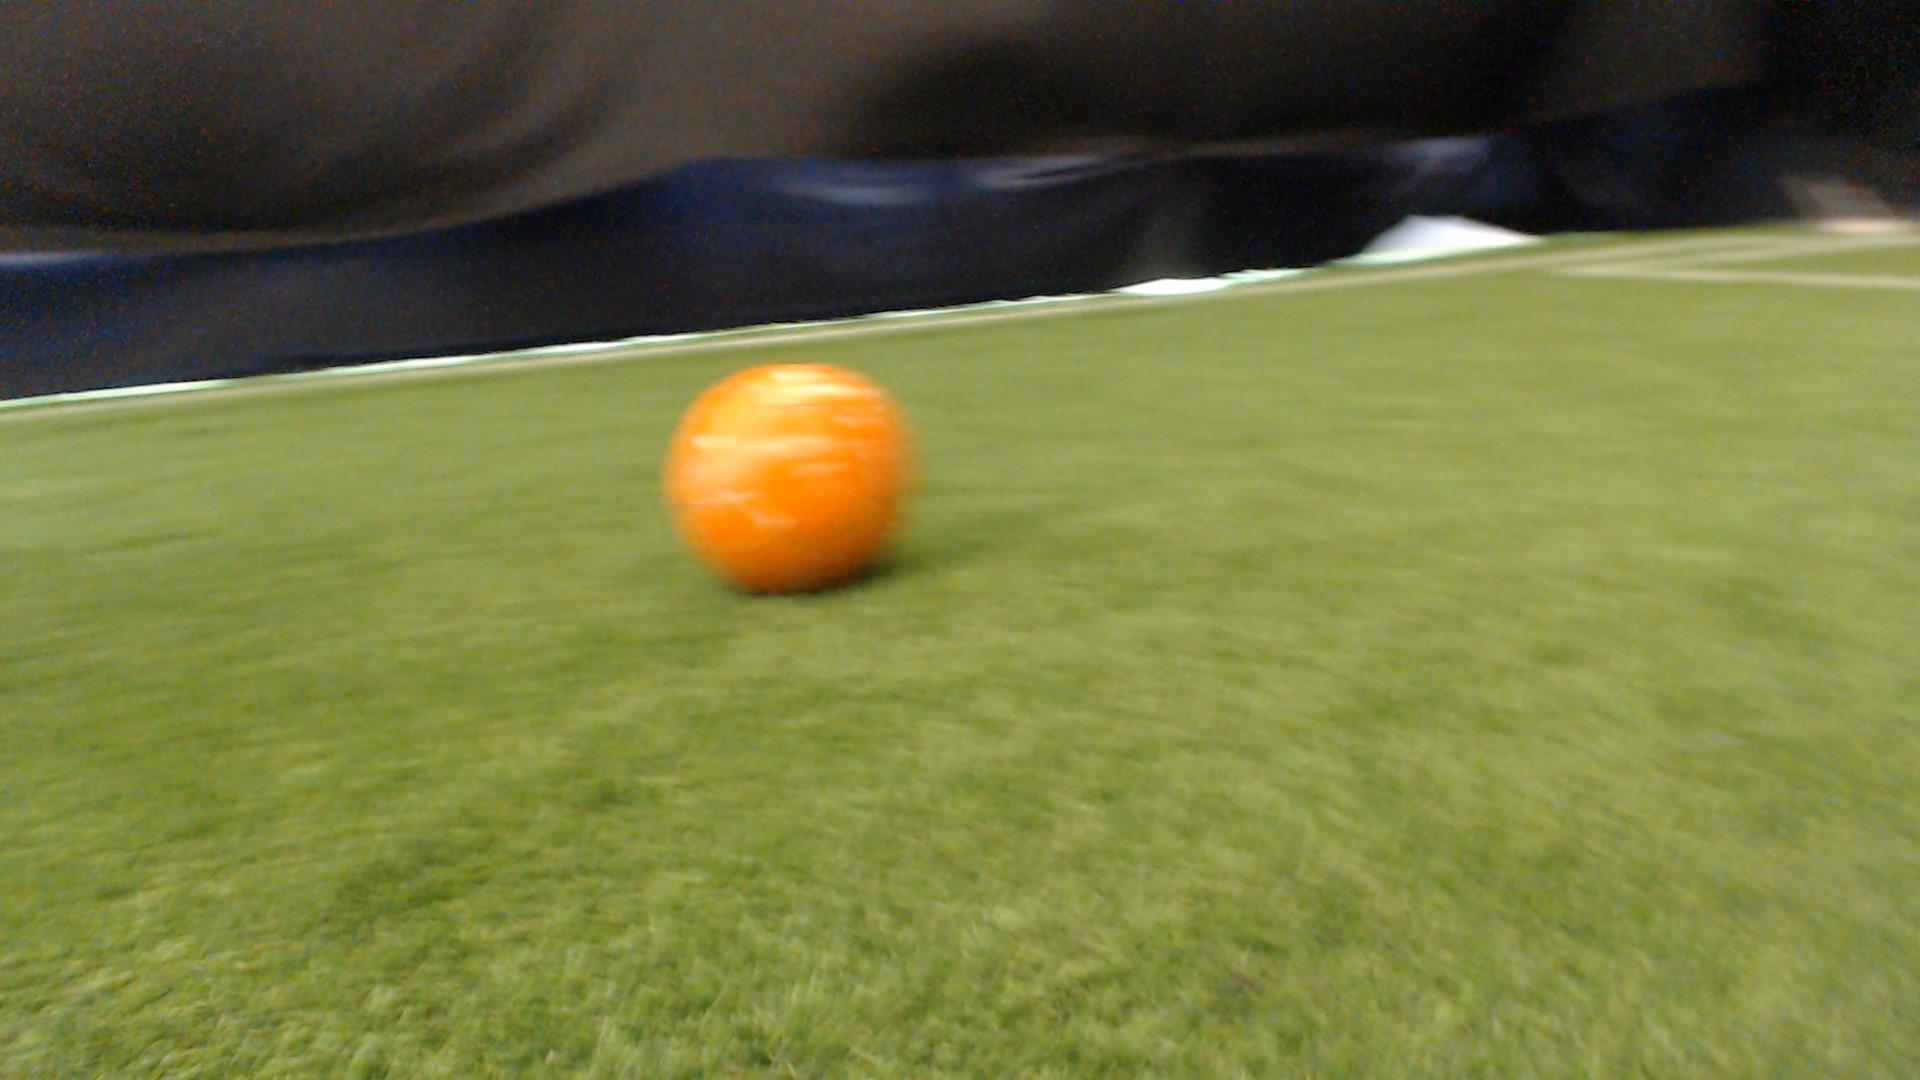bola: (647, 335, 947, 600)
